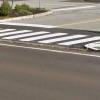Crosswalk: (3, 22, 100, 57)
